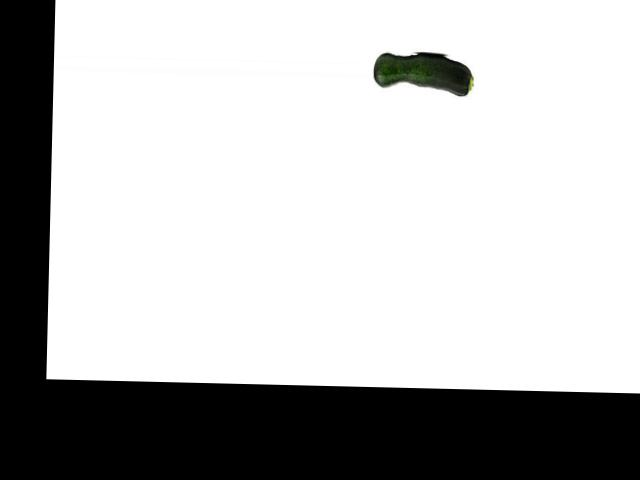cucumber: (373, 52, 474, 96)
